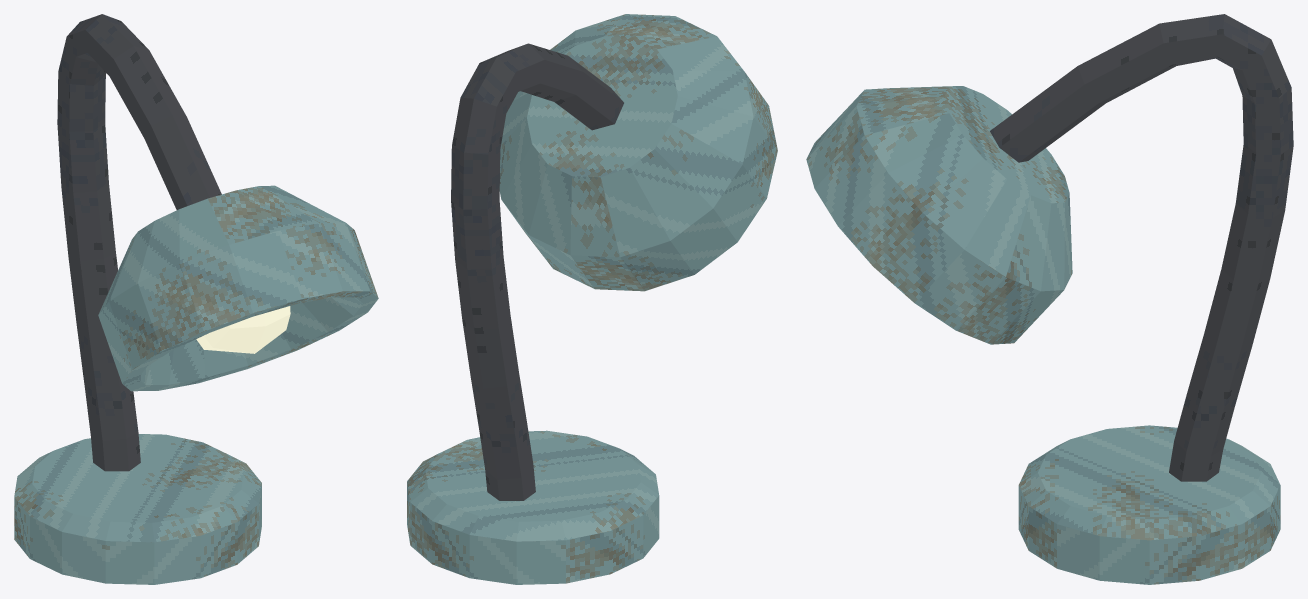
The model's file is deskLamp.glb.
The picture shows the model from 3 angles, left to right: view 1: azimuth 30°, elevation 25°; view 2: azimuth 150°, elevation 25°; view 3: azimuth 270°, elevation 25°; orthographic projection. The views are drawn at different scales.
Parts seen in each view (by area): view 1: Cylinder.001, Cylinder, BézierCurve, Cube; view 2: Cylinder.001, Cylinder, BézierCurve; view 3: Cylinder.001, BézierCurve, Cylinder.
Boxes of the visible parts, bbox=[...] form: Cylinder.001: bbox=[98, 185, 378, 391]; Cylinder: bbox=[14, 434, 261, 584]; BézierCurve: bbox=[57, 14, 221, 471]; Cube: bbox=[196, 306, 290, 353]; Cylinder.001: bbox=[499, 14, 777, 291]; Cylinder: bbox=[407, 430, 659, 584]; BézierCurve: bbox=[451, 43, 623, 500]; Cylinder.001: bbox=[806, 86, 1072, 344]; BézierCurve: bbox=[990, 14, 1293, 481]; Cylinder: bbox=[1018, 425, 1280, 584].
Size of the model in its own units: 0.2271 by 0.4547 by 0.3895.
3 materials, 2 textured.
